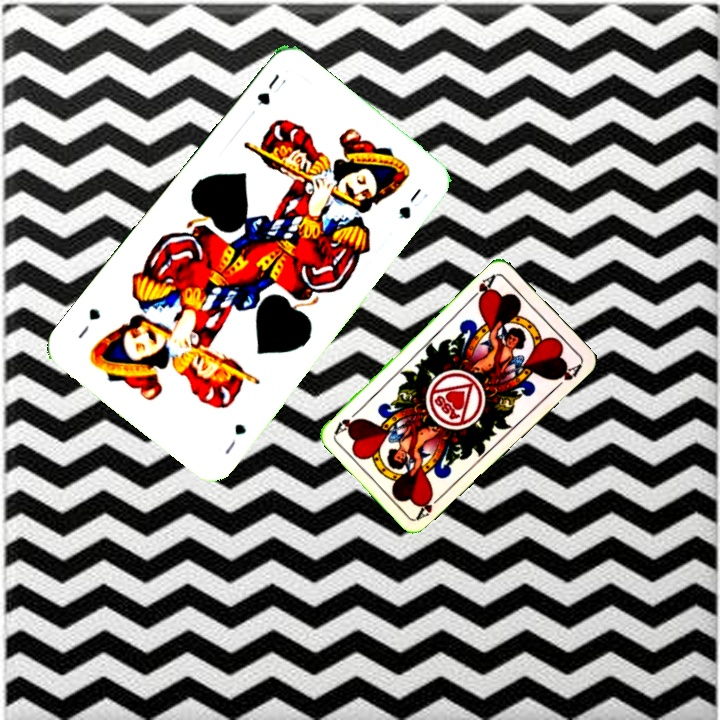GU: (252, 69, 289, 108), (220, 419, 250, 457)
HA: (466, 270, 499, 306), (413, 489, 446, 522)
